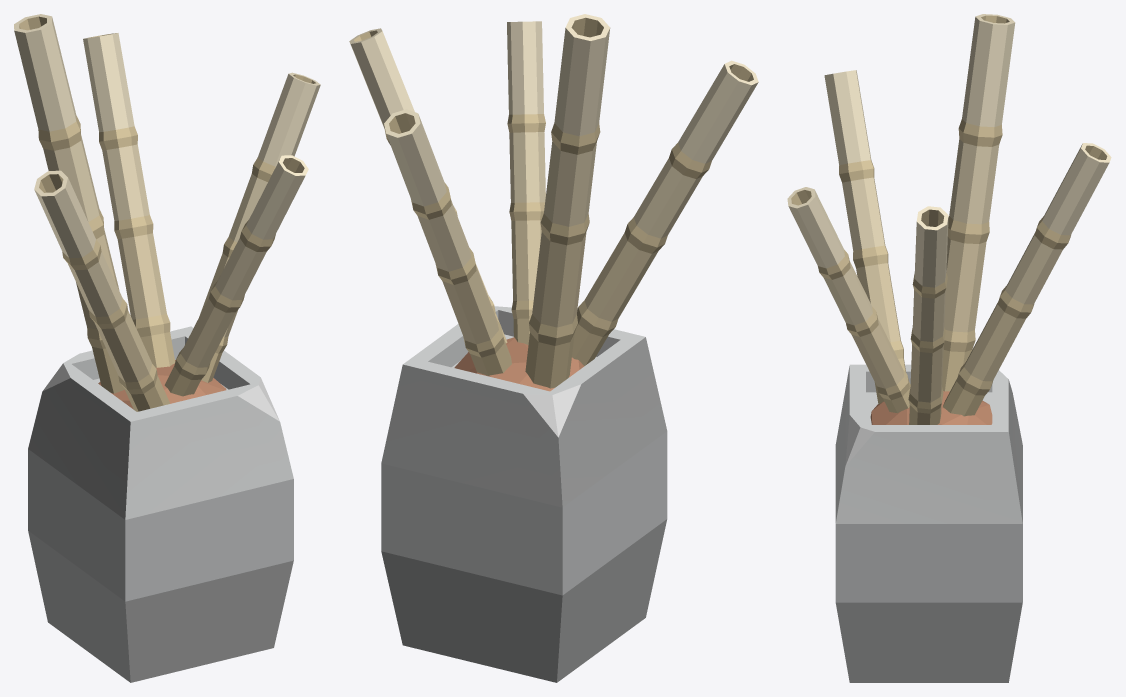
Rendered from flowerpot with bamboo_brown.fbx.
3 views of the same model, side by side, from view 1: azimuth 30°, elevation 25°; view 2: azimuth 150°, elevation 25°; view 3: azimuth 270°, elevation 25° (orthographic). The views are drawn at different scales.
Parts seen in each view (by area): view 1: flowerpot_with_bamboo_brown; view 2: flowerpot_with_bamboo_brown; view 3: flowerpot_with_bamboo_brown.
Boxes of the visible parts, left/top/right/bottom form: flowerpot_with_bamboo_brown: left=14, top=14, right=320, bottom=682; flowerpot_with_bamboo_brown: left=349, top=14, right=758, bottom=682; flowerpot_with_bamboo_brown: left=787, top=14, right=1111, bottom=682.
Size of the model in its own units: 93.04 by 166 by 82.89.
